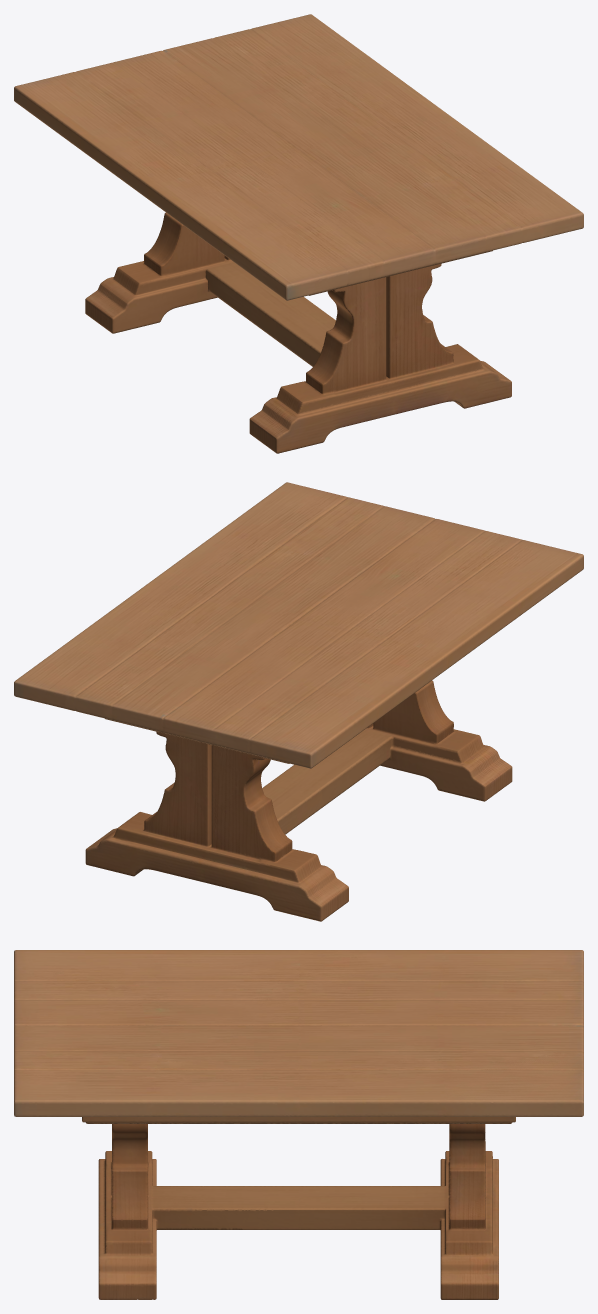
File: detailed_realistic_model_grandoaktable_09.glb
3 renders of one model, top to bottom at view 1: azimuth 30°, elevation 25°; view 2: azimuth 150°, elevation 25°; view 3: azimuth 270°, elevation 25°, orthographic. The views are drawn at different scales.
Parts seen in each view (by area): view 1: tripo_node_d67df482-88a4-4111-b652-711f092456a0; view 2: tripo_node_d67df482-88a4-4111-b652-711f092456a0; view 3: tripo_node_d67df482-88a4-4111-b652-711f092456a0.
Boxes of the visible parts, box(x1,y1,x2,y2) form: tripo_node_d67df482-88a4-4111-b652-711f092456a0: box(14, 14, 583, 453); tripo_node_d67df482-88a4-4111-b652-711f092456a0: box(14, 482, 583, 921); tripo_node_d67df482-88a4-4111-b652-711f092456a0: box(14, 950, 583, 1299).
Bounding box in the file's own units: 0.6305 × 0.4174 × 1.
Materials: 1 (1 with a texture image).
